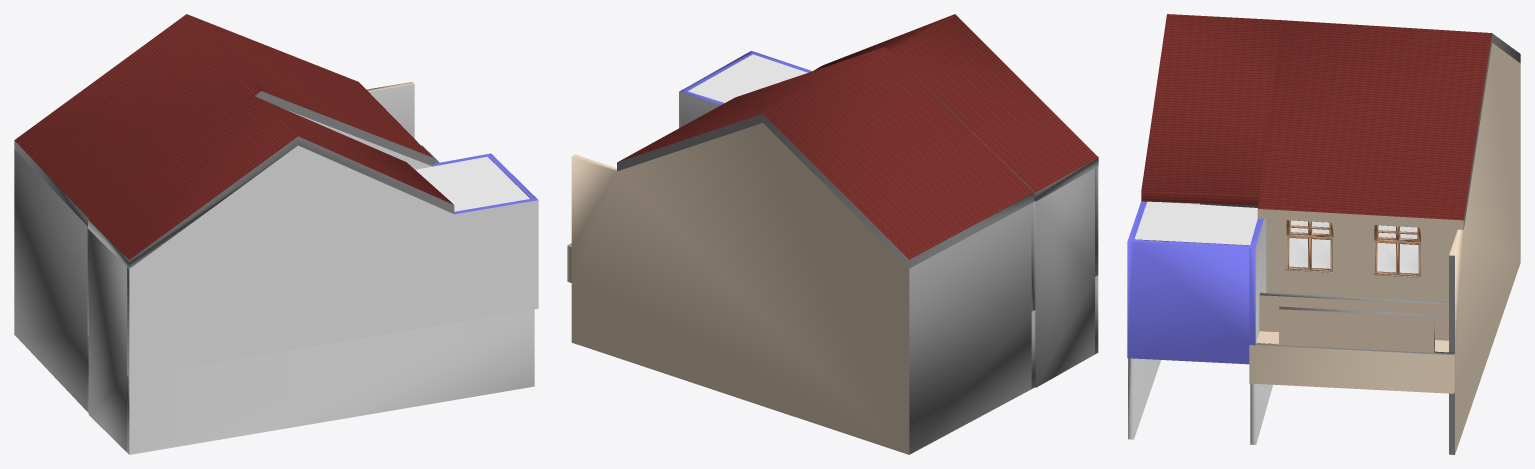
Rendered from citra.glb.
3 renders of one model, left to right at view 1: azimuth 30°, elevation 25°; view 2: azimuth 150°, elevation 25°; view 3: azimuth 270°, elevation 25°, orthographic. The views are drawn at different scales.
Visible parts, largest first — view 1: Mesh2 Generic___200mm18_1 Group1 Model, Mesh8 Generic_Roof___300mm1 Group1 Model, Mesh28 Generic___200mm13_1 Group1 Model, Mesh7 Generic_Roof___300mm17_1 Group1 Model, Mesh50 Generic___200mm2_1 Group1 Model, Mesh32 Generic___200mm14_1 Group1 Model, Mesh27 Generic_Floor___400mm16_1 Group1 Model, Mesh33 Generic___200mm1 Group1 Model, Mesh47 Generic___200mm20_1 Group1 Model; view 2: Mesh33 Generic___200mm1 Group1 Model, Mesh8 Generic_Roof___300mm1 Group1 Model, Mesh50 Generic___200mm2_1 Group1 Model, Mesh7 Generic_Roof___300mm17_1 Group1 Model, Mesh32 Generic___200mm14_1 Group1 Model, Mesh27 Generic_Floor___400mm16_1 Group1 Model, Mesh47 Generic___200mm20_1 Group1 Model, Mesh2 Generic___200mm18_1 Group1 Model; view 3: Mesh8 Generic_Roof___300mm1 Group1 Model, Mesh7 Generic_Roof___300mm17_1 Group1 Model, Mesh33 Generic___200mm1 Group1 Model, Mesh21 Generic___200mm15_1 Group1 Model, Mesh1 Generic___200mm9_1 Group1 Model, Mesh49 Generic___200mm7_1 Group1 Model, Mesh27 Generic_Floor___400mm16_1 Group1 Model, Mesh29 Generic___200mm19_1 Group1 Model, Mesh30 Generic___200mm3_1 Group1 Model, Mesh51 Generic___200mm8_1 Group1 Model, Mesh48 Generic_Floor___400mm6_1 Group1 Model, Mesh47 Generic___200mm20_1 Group1 Model (+7 smaller).
Boxes of the visible parts, left/top/right/bottom form: Mesh2 Generic___200mm18_1 Group1 Model: left=127, top=145, right=538, bottom=377; Mesh8 Generic_Roof___300mm1 Group1 Model: left=14, top=14, right=432, bottom=226; Mesh28 Generic___200mm13_1 Group1 Model: left=127, top=309, right=534, bottom=454; Mesh7 Generic_Roof___300mm17_1 Group1 Model: left=88, top=95, right=454, bottom=268; Mesh50 Generic___200mm2_1 Group1 Model: left=14, top=149, right=87, bottom=411; Mesh32 Generic___200mm14_1 Group1 Model: left=88, top=229, right=126, bottom=451; Mesh27 Generic_Floor___400mm16_1 Group1 Model: left=415, top=156, right=529, bottom=211; Mesh33 Generic___200mm1 Group1 Model: left=367, top=82, right=414, bottom=138; Mesh47 Generic___200mm20_1 Group1 Model: left=87, top=108, right=492, bottom=335; Mesh33 Generic___200mm1 Group1 Model: left=571, top=123, right=904, bottom=453; Mesh8 Generic_Roof___300mm1 Group1 Model: left=617, top=47, right=1034, bottom=268; Mesh50 Generic___200mm2_1 Group1 Model: left=904, top=203, right=1031, bottom=454; Mesh7 Generic_Roof___300mm17_1 Group1 Model: left=813, top=14, right=1098, bottom=201; Mesh32 Generic___200mm14_1 Group1 Model: left=1035, top=168, right=1094, bottom=387; Mesh27 Generic_Floor___400mm16_1 Group1 Model: left=688, top=54, right=807, bottom=102; Mesh47 Generic___200mm20_1 Group1 Model: left=679, top=89, right=1035, bottom=311; Mesh2 Generic___200mm18_1 Group1 Model: left=748, top=51, right=1098, bottom=276; Mesh8 Generic_Roof___300mm1 Group1 Model: left=1257, top=20, right=1520, bottom=229; Mesh7 Generic_Roof___300mm17_1 Group1 Model: left=1141, top=14, right=1281, bottom=205; Mesh33 Generic___200mm1 Group1 Model: left=1449, top=43, right=1519, bottom=454; Mesh21 Generic___200mm15_1 Group1 Model: left=1133, top=239, right=1249, bottom=364; Mesh1 Generic___200mm9_1 Group1 Model: left=1266, top=219, right=1457, bottom=301; Mesh49 Generic___200mm7_1 Group1 Model: left=1279, top=306, right=1434, bottom=352; Mesh27 Generic_Floor___400mm16_1 Group1 Model: left=1134, top=201, right=1257, bottom=245; Mesh29 Generic___200mm19_1 Group1 Model: left=1249, top=342, right=1454, bottom=374; Mesh30 Generic___200mm3_1 Group1 Model: left=1249, top=364, right=1454, bottom=393; Mesh51 Generic___200mm8_1 Group1 Model: left=1259, top=292, right=1448, bottom=340; Mesh48 Generic_Floor___400mm6_1 Group1 Model: left=1289, top=220, right=1418, bottom=273; Mesh47 Generic___200mm20_1 Group1 Model: left=1249, top=218, right=1266, bottom=345.
Bounding box in the file's own units: 16.59 × 11.32 × 12.87.
Materials: 8 (2 with a texture image).
